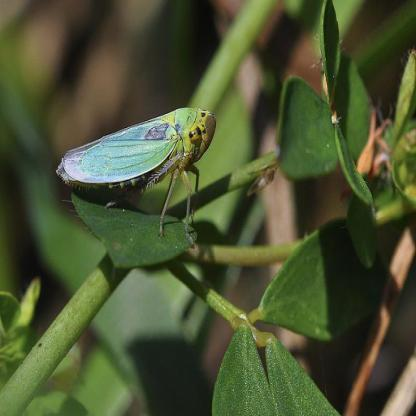Green-Leafhopper: (56, 103, 218, 233)
